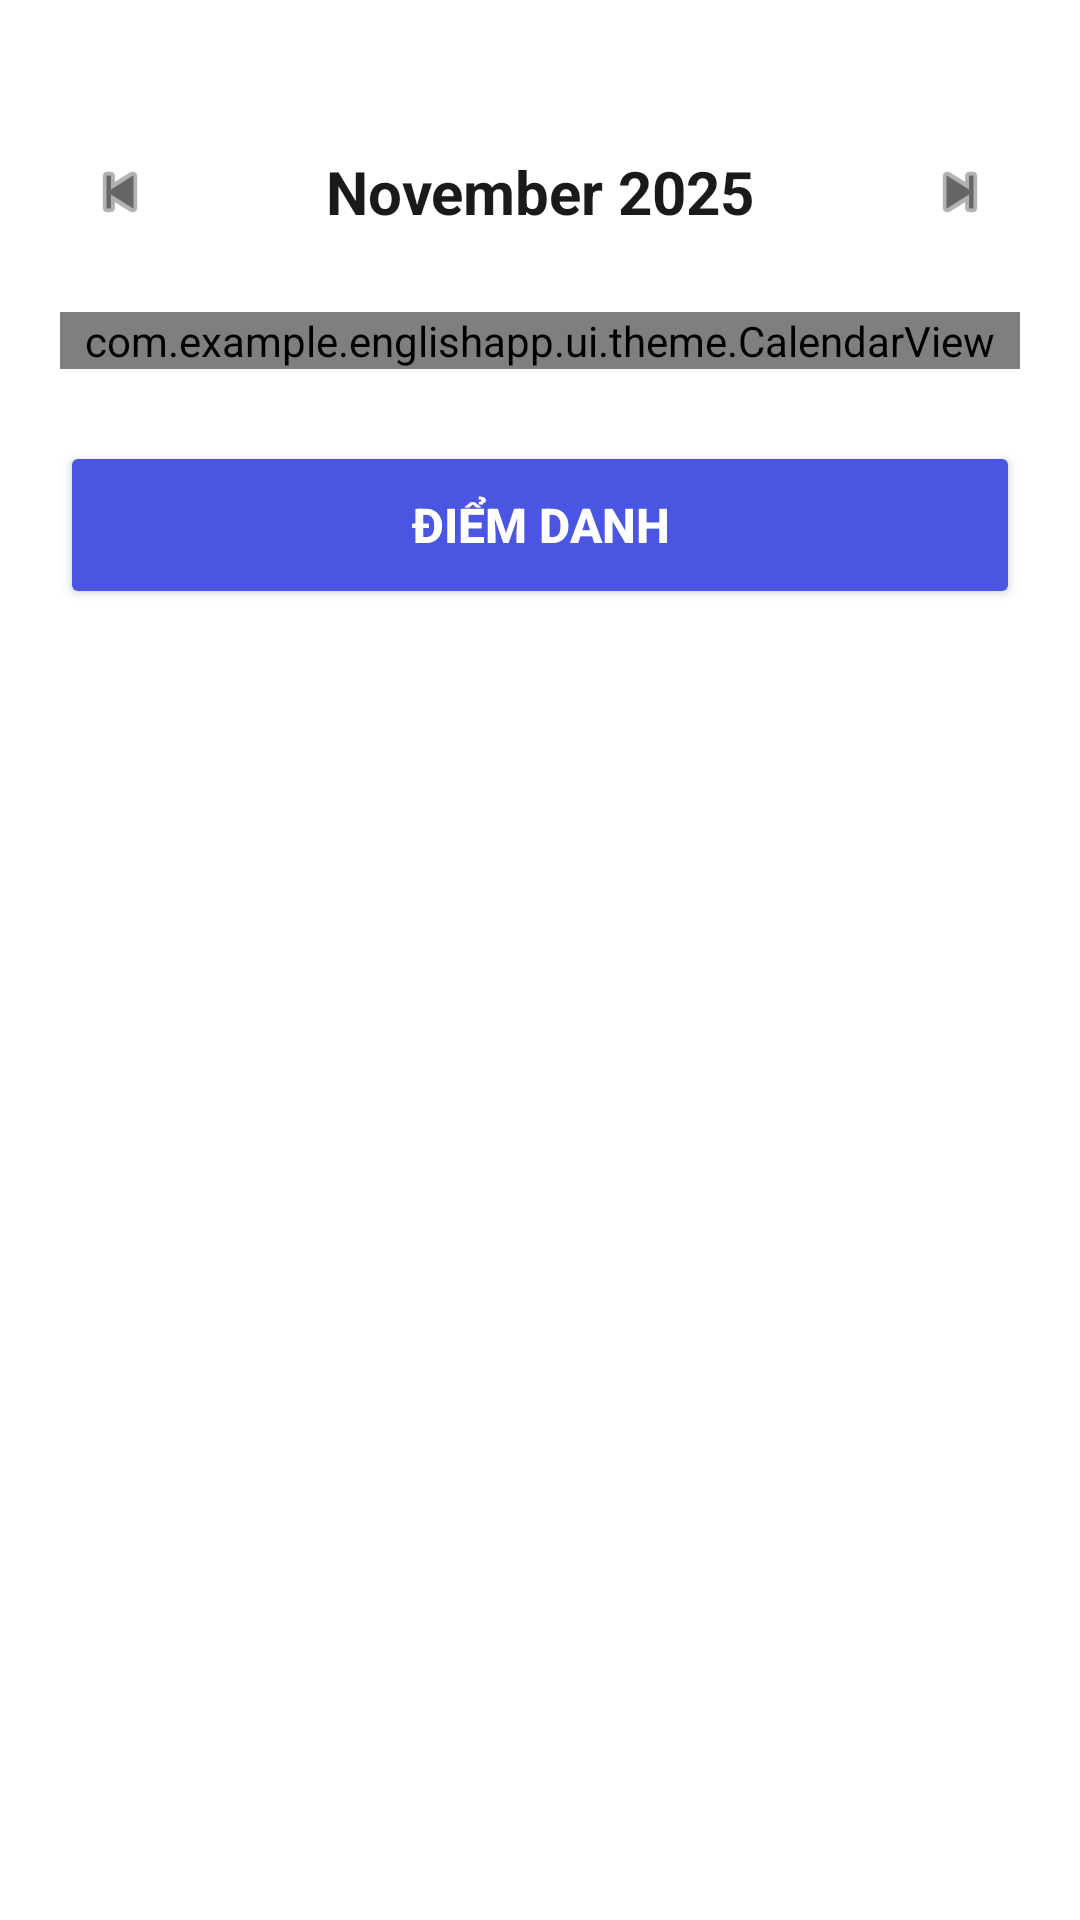

Locate icon controls on the screen. Image size 1080 × 1920, boxes as (x1, y1, x2, y2).
next: (943, 172, 977, 212)
previous: (103, 172, 137, 212)
